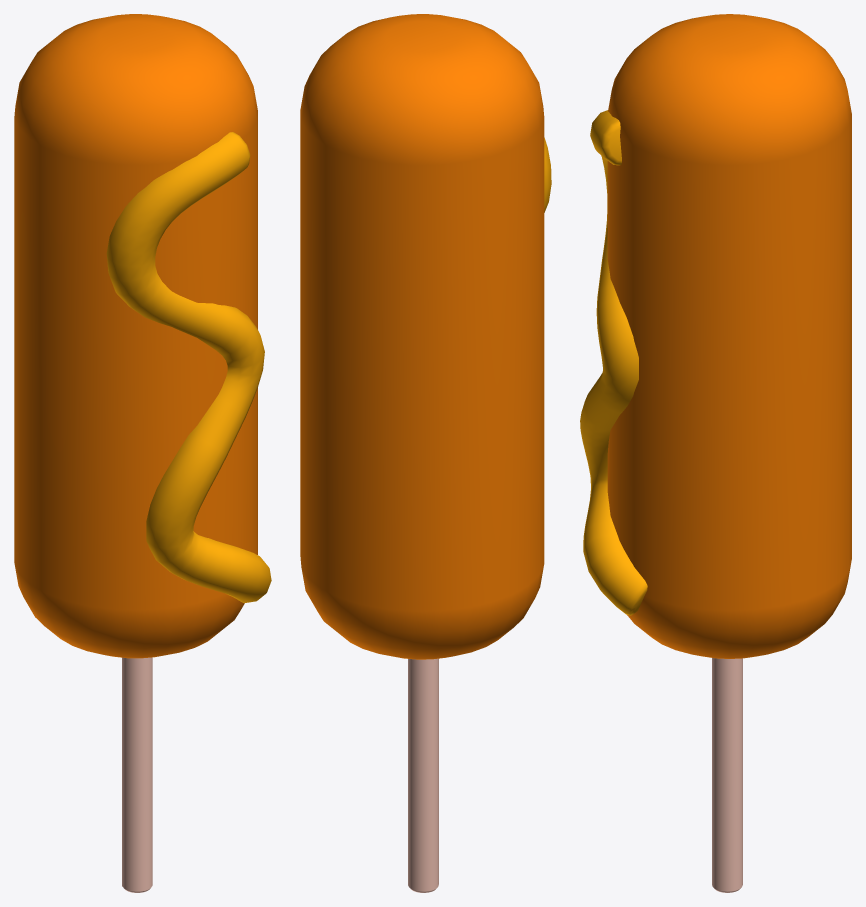
The model's file is Store_12_Hot_Dog_2.glb.
3 renders of one model, left to right at view 1: azimuth 30°, elevation 25°; view 2: azimuth 150°, elevation 25°; view 3: azimuth 270°, elevation 25°, orthographic.
Visible parts, largest first — view 1: Store_12_Hot_Dog_2; view 2: Store_12_Hot_Dog_2; view 3: Store_12_Hot_Dog_2.
Boxes of the visible parts, x1,y1,x2,y2 form: Store_12_Hot_Dog_2: (14,14,271,892); Store_12_Hot_Dog_2: (300,14,551,892); Store_12_Hot_Dog_2: (580,14,851,892).
Size of the model in its own units: 0.1369 by 0.5266 by 0.1522.
Materials: 1 (1 with a texture image).
